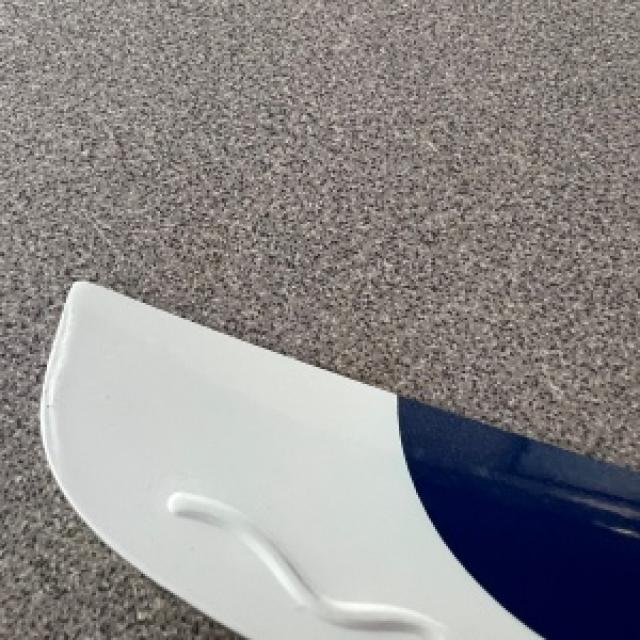healthy: (38, 279, 638, 638)
